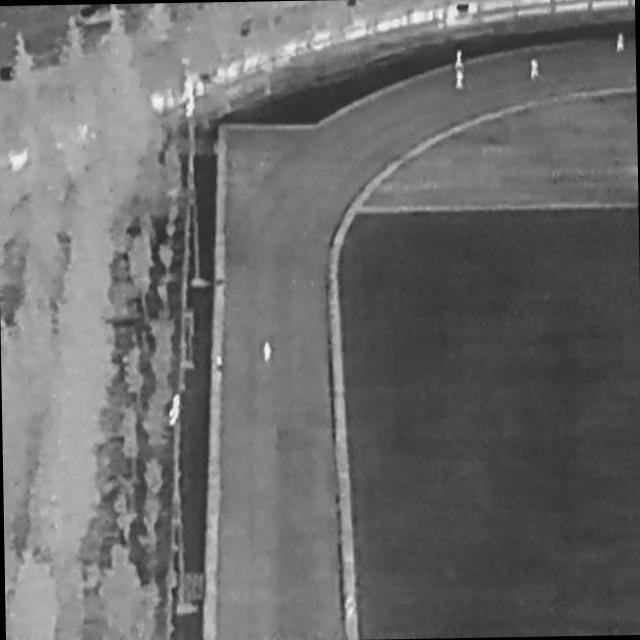person: (345, 593, 358, 622), (215, 355, 224, 381), (530, 56, 539, 81), (264, 340, 273, 363), (456, 49, 464, 70), (616, 31, 624, 52), (457, 69, 464, 90)
